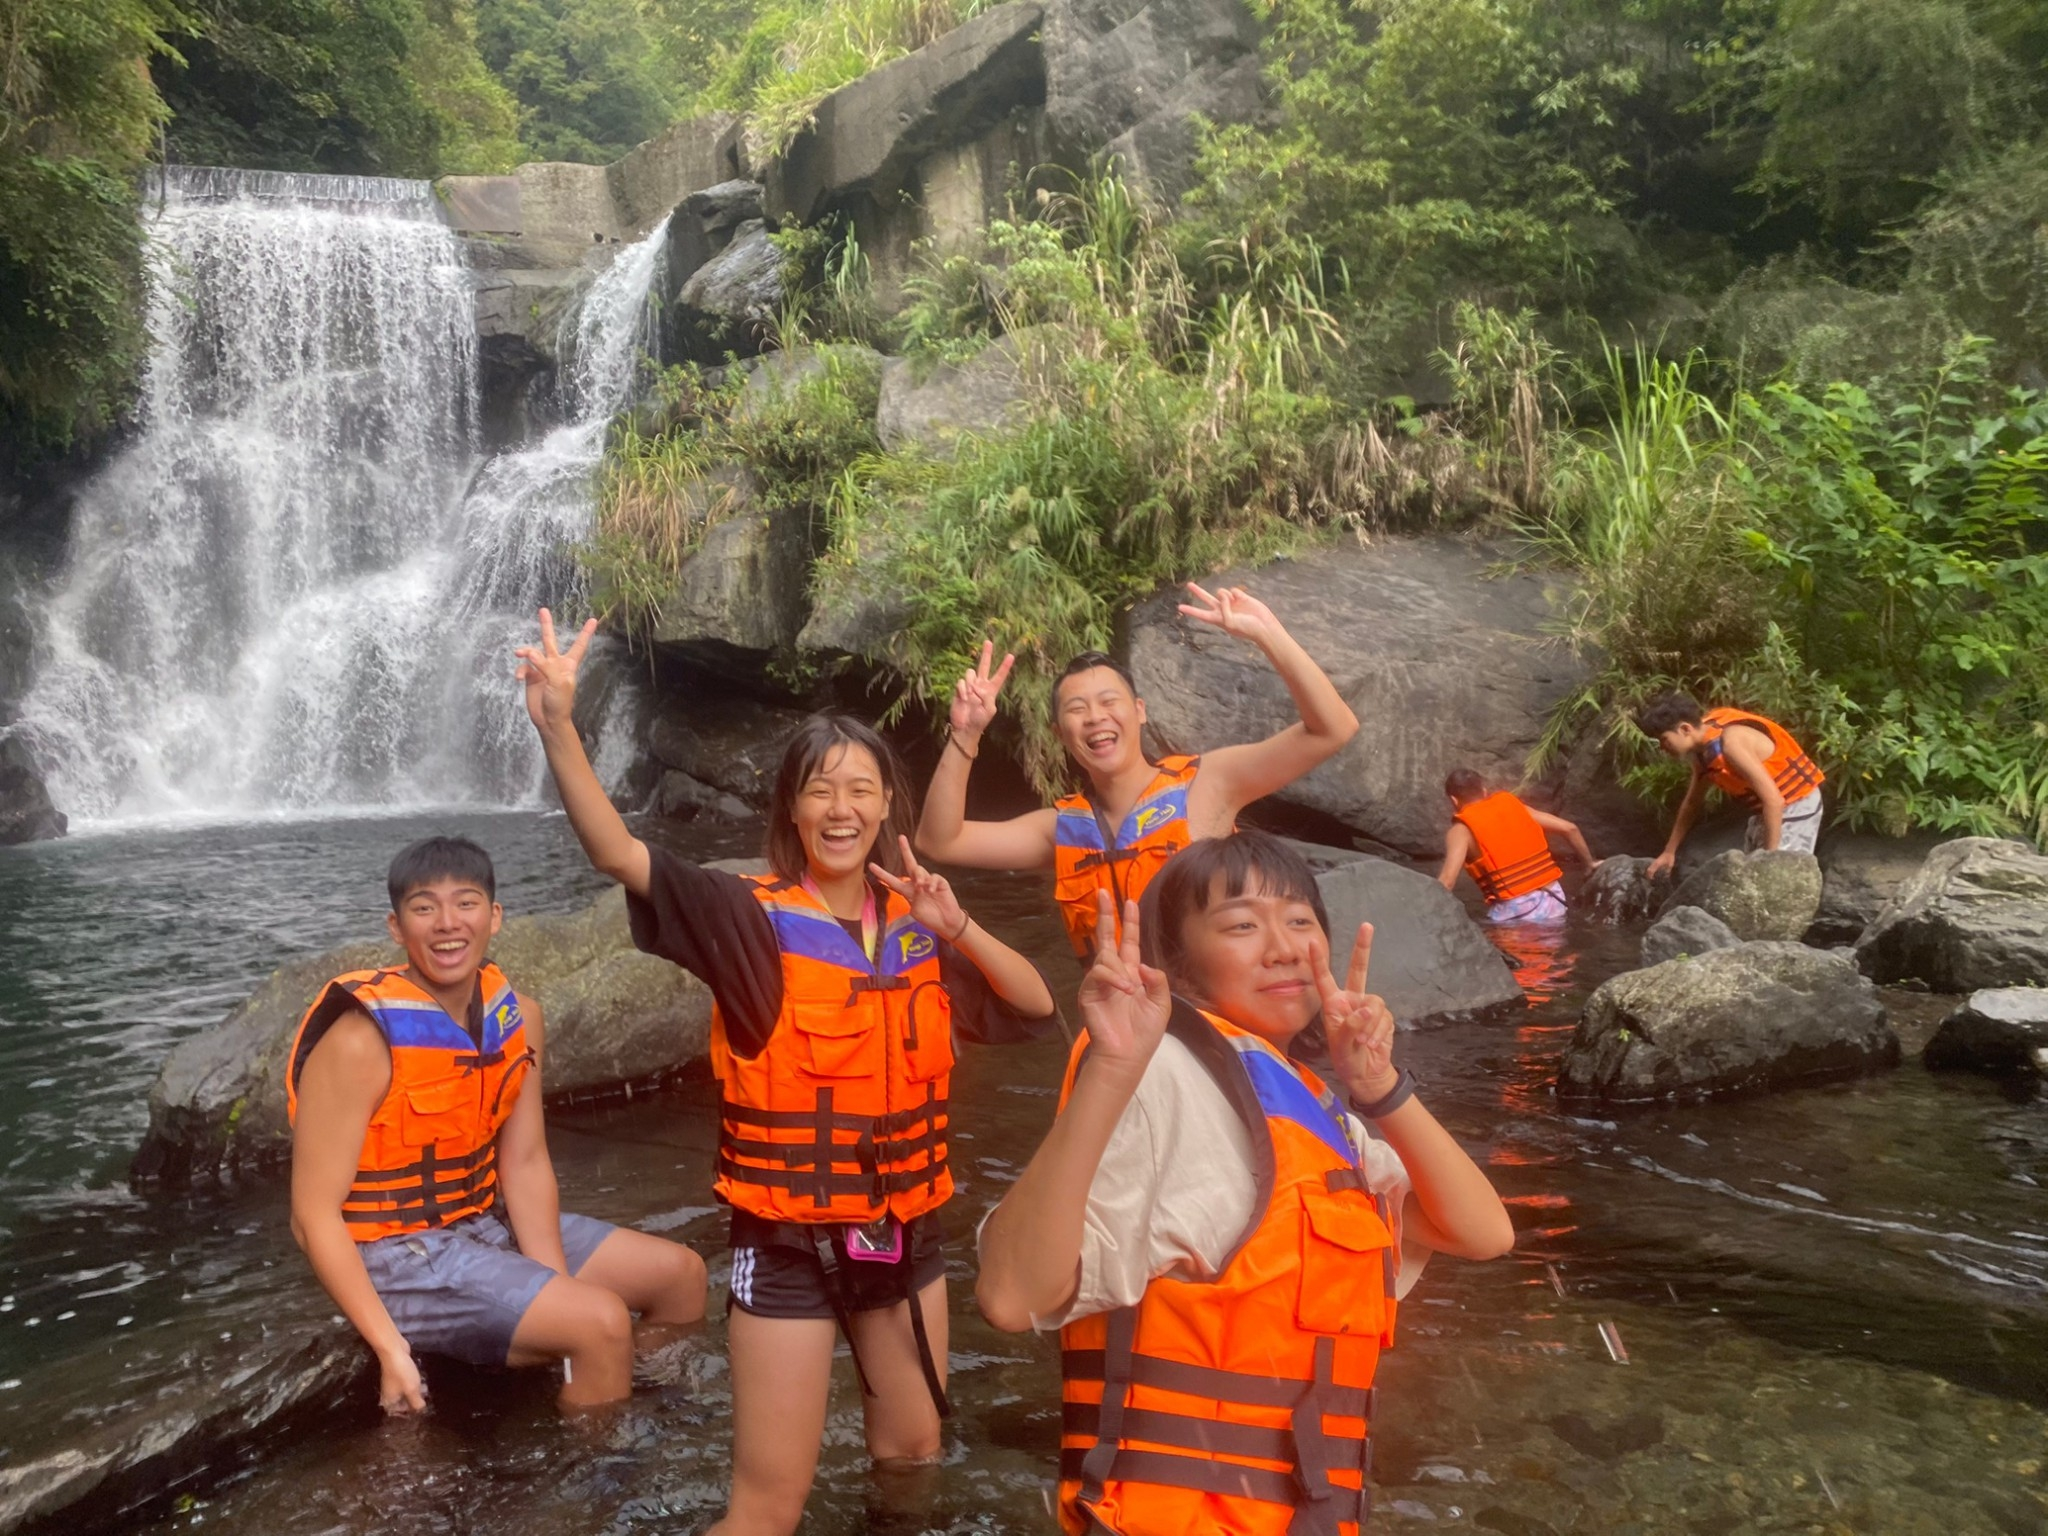people: (687, 725, 966, 1536), (325, 843, 666, 1463), (1102, 858, 1396, 1536), (1043, 655, 1266, 1028), (1643, 690, 1828, 887), (1416, 755, 1590, 949)
